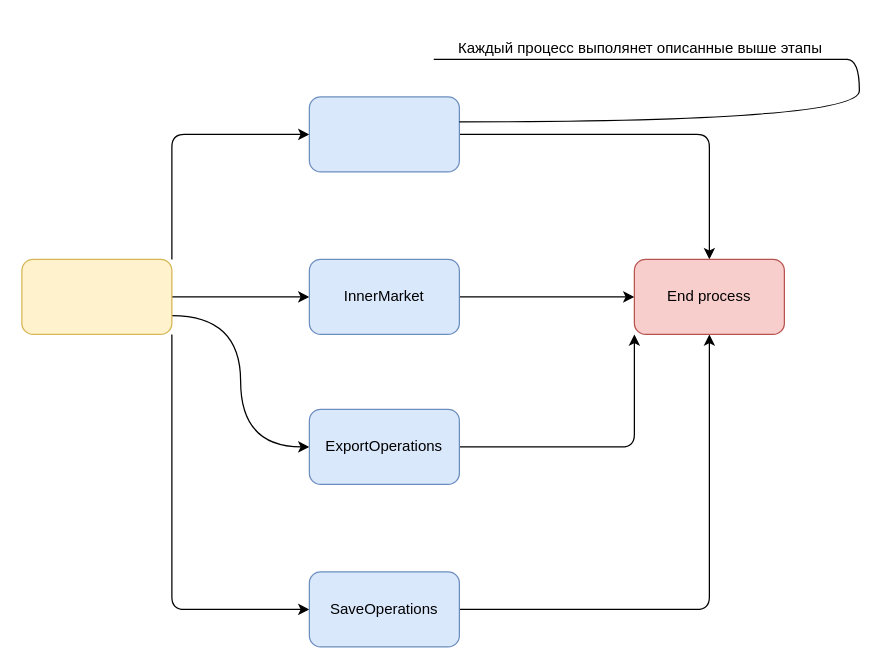
Image size: 881x669. Some labels were removed from this diagram. Here are the shapes that lost their labels. From the top down, the centre of each, then its label:
point 383,134: Conosaments
point 96,296: Start process
